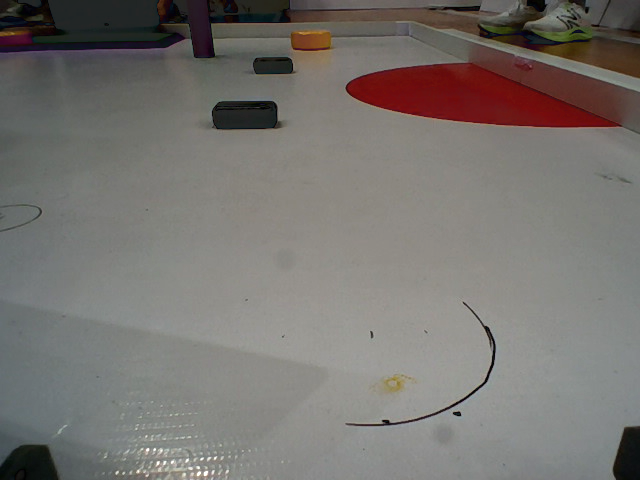black: (208, 99, 279, 129), (253, 58, 295, 76)
kuang: (1, 28, 191, 52)
yellow: (290, 29, 333, 48), (1, 29, 37, 46)
zhuzi: (186, 1, 217, 60)
